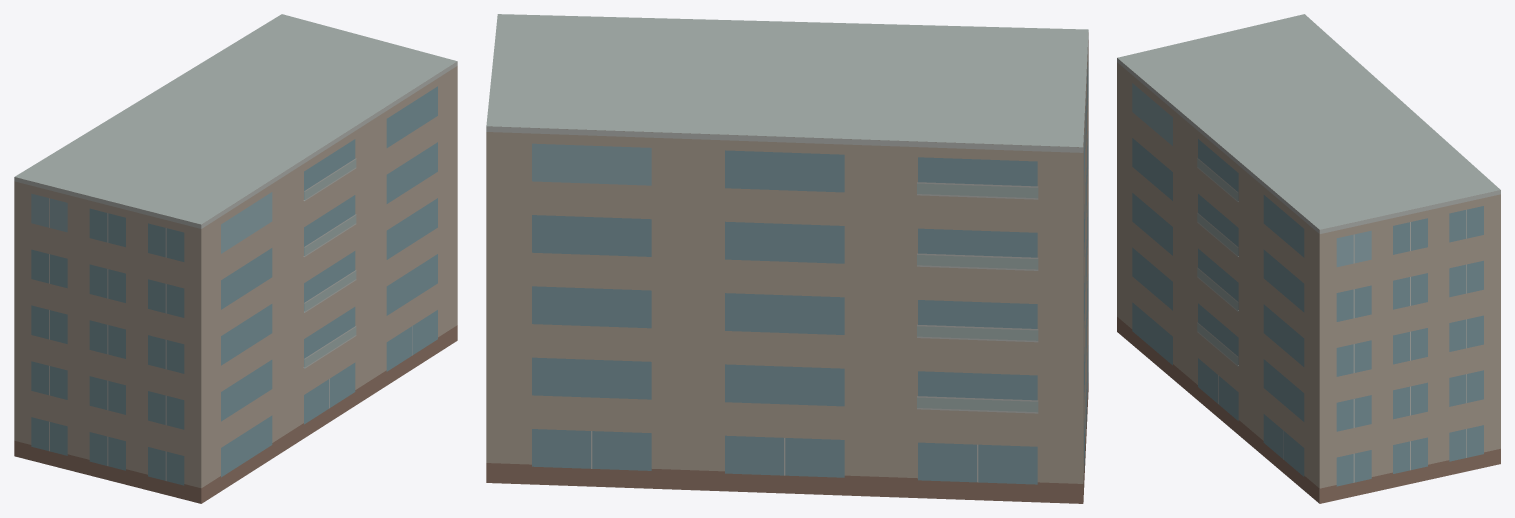
File: survey-upis-32647012.glb
The picture shows the model from 3 angles, left to right: view 1: azimuth 30°, elevation 25°; view 2: azimuth 150°, elevation 25°; view 3: azimuth 270°, elevation 25°; orthographic projection. The views are drawn at different scales.
Visible parts, largest first — view 1: survey-upis-32647012.tmp; view 2: survey-upis-32647012.tmp; view 3: survey-upis-32647012.tmp.
Boxes of the visible parts, x1,y1,x2,y2 form: survey-upis-32647012.tmp: (14, 14, 457, 503); survey-upis-32647012.tmp: (486, 14, 1088, 503); survey-upis-32647012.tmp: (1117, 14, 1500, 503).
Size of the model in its own units: 25.94 by 15.35 by 19.49.
